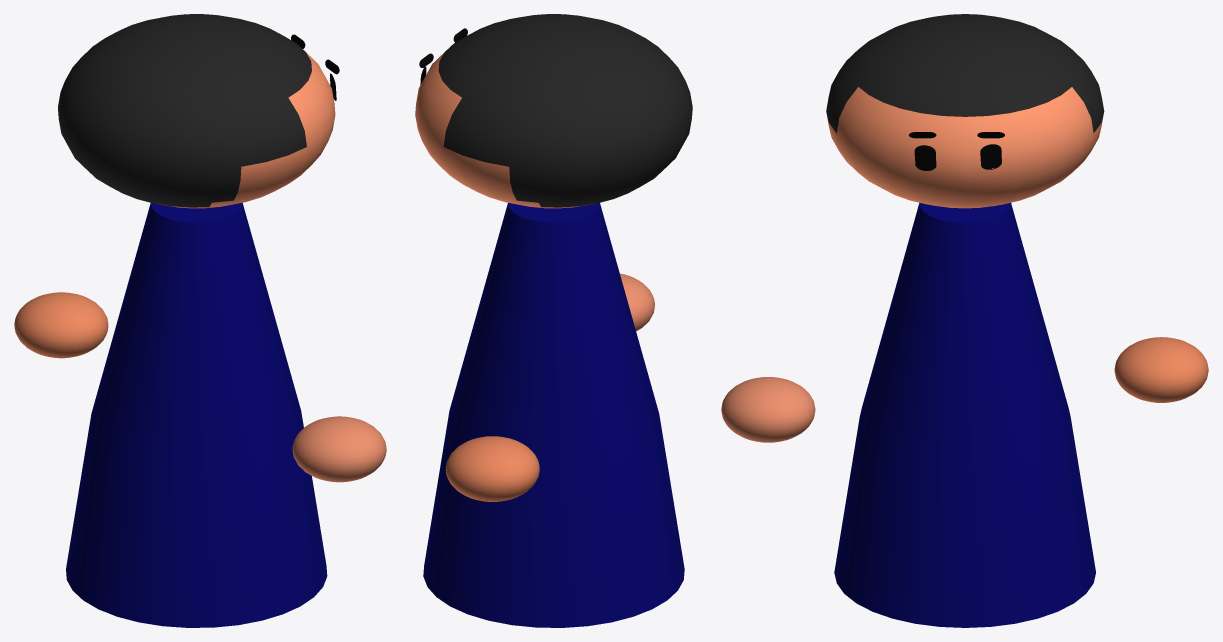
The model's file is NPC1.fbx.
3 renders of one model, left to right at view 1: azimuth 30°, elevation 25°; view 2: azimuth 150°, elevation 25°; view 3: azimuth 270°, elevation 25°, orthographic.
Visible parts, largest first — view 1: Cylinder, Sphere, Sphere.001; view 2: Cylinder, Sphere.001, Sphere; view 3: Cylinder, Sphere, Sphere.001.
Part boxes in pixels (box(x1,y1,x2,y2)): Cylinder: box(58, 14, 335, 627); Sphere: box(292, 416, 386, 482); Sphere.001: box(14, 292, 108, 358); Cylinder: box(415, 14, 692, 627); Sphere.001: box(445, 436, 539, 501); Sphere: box(620, 273, 654, 331); Cylinder: box(826, 14, 1104, 627); Sphere: box(721, 377, 815, 442); Sphere.001: box(1114, 337, 1208, 402).
Size of the model in its own units: 85.02 by 180 by 148.
